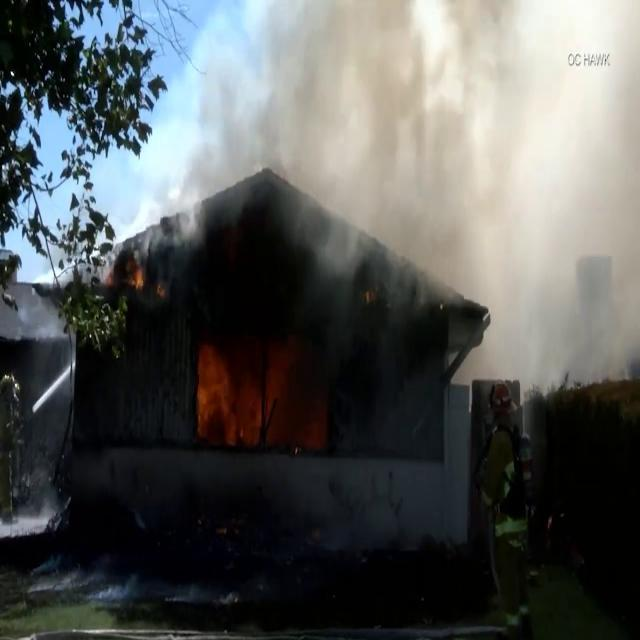Smoke: (192, 0, 640, 427)
